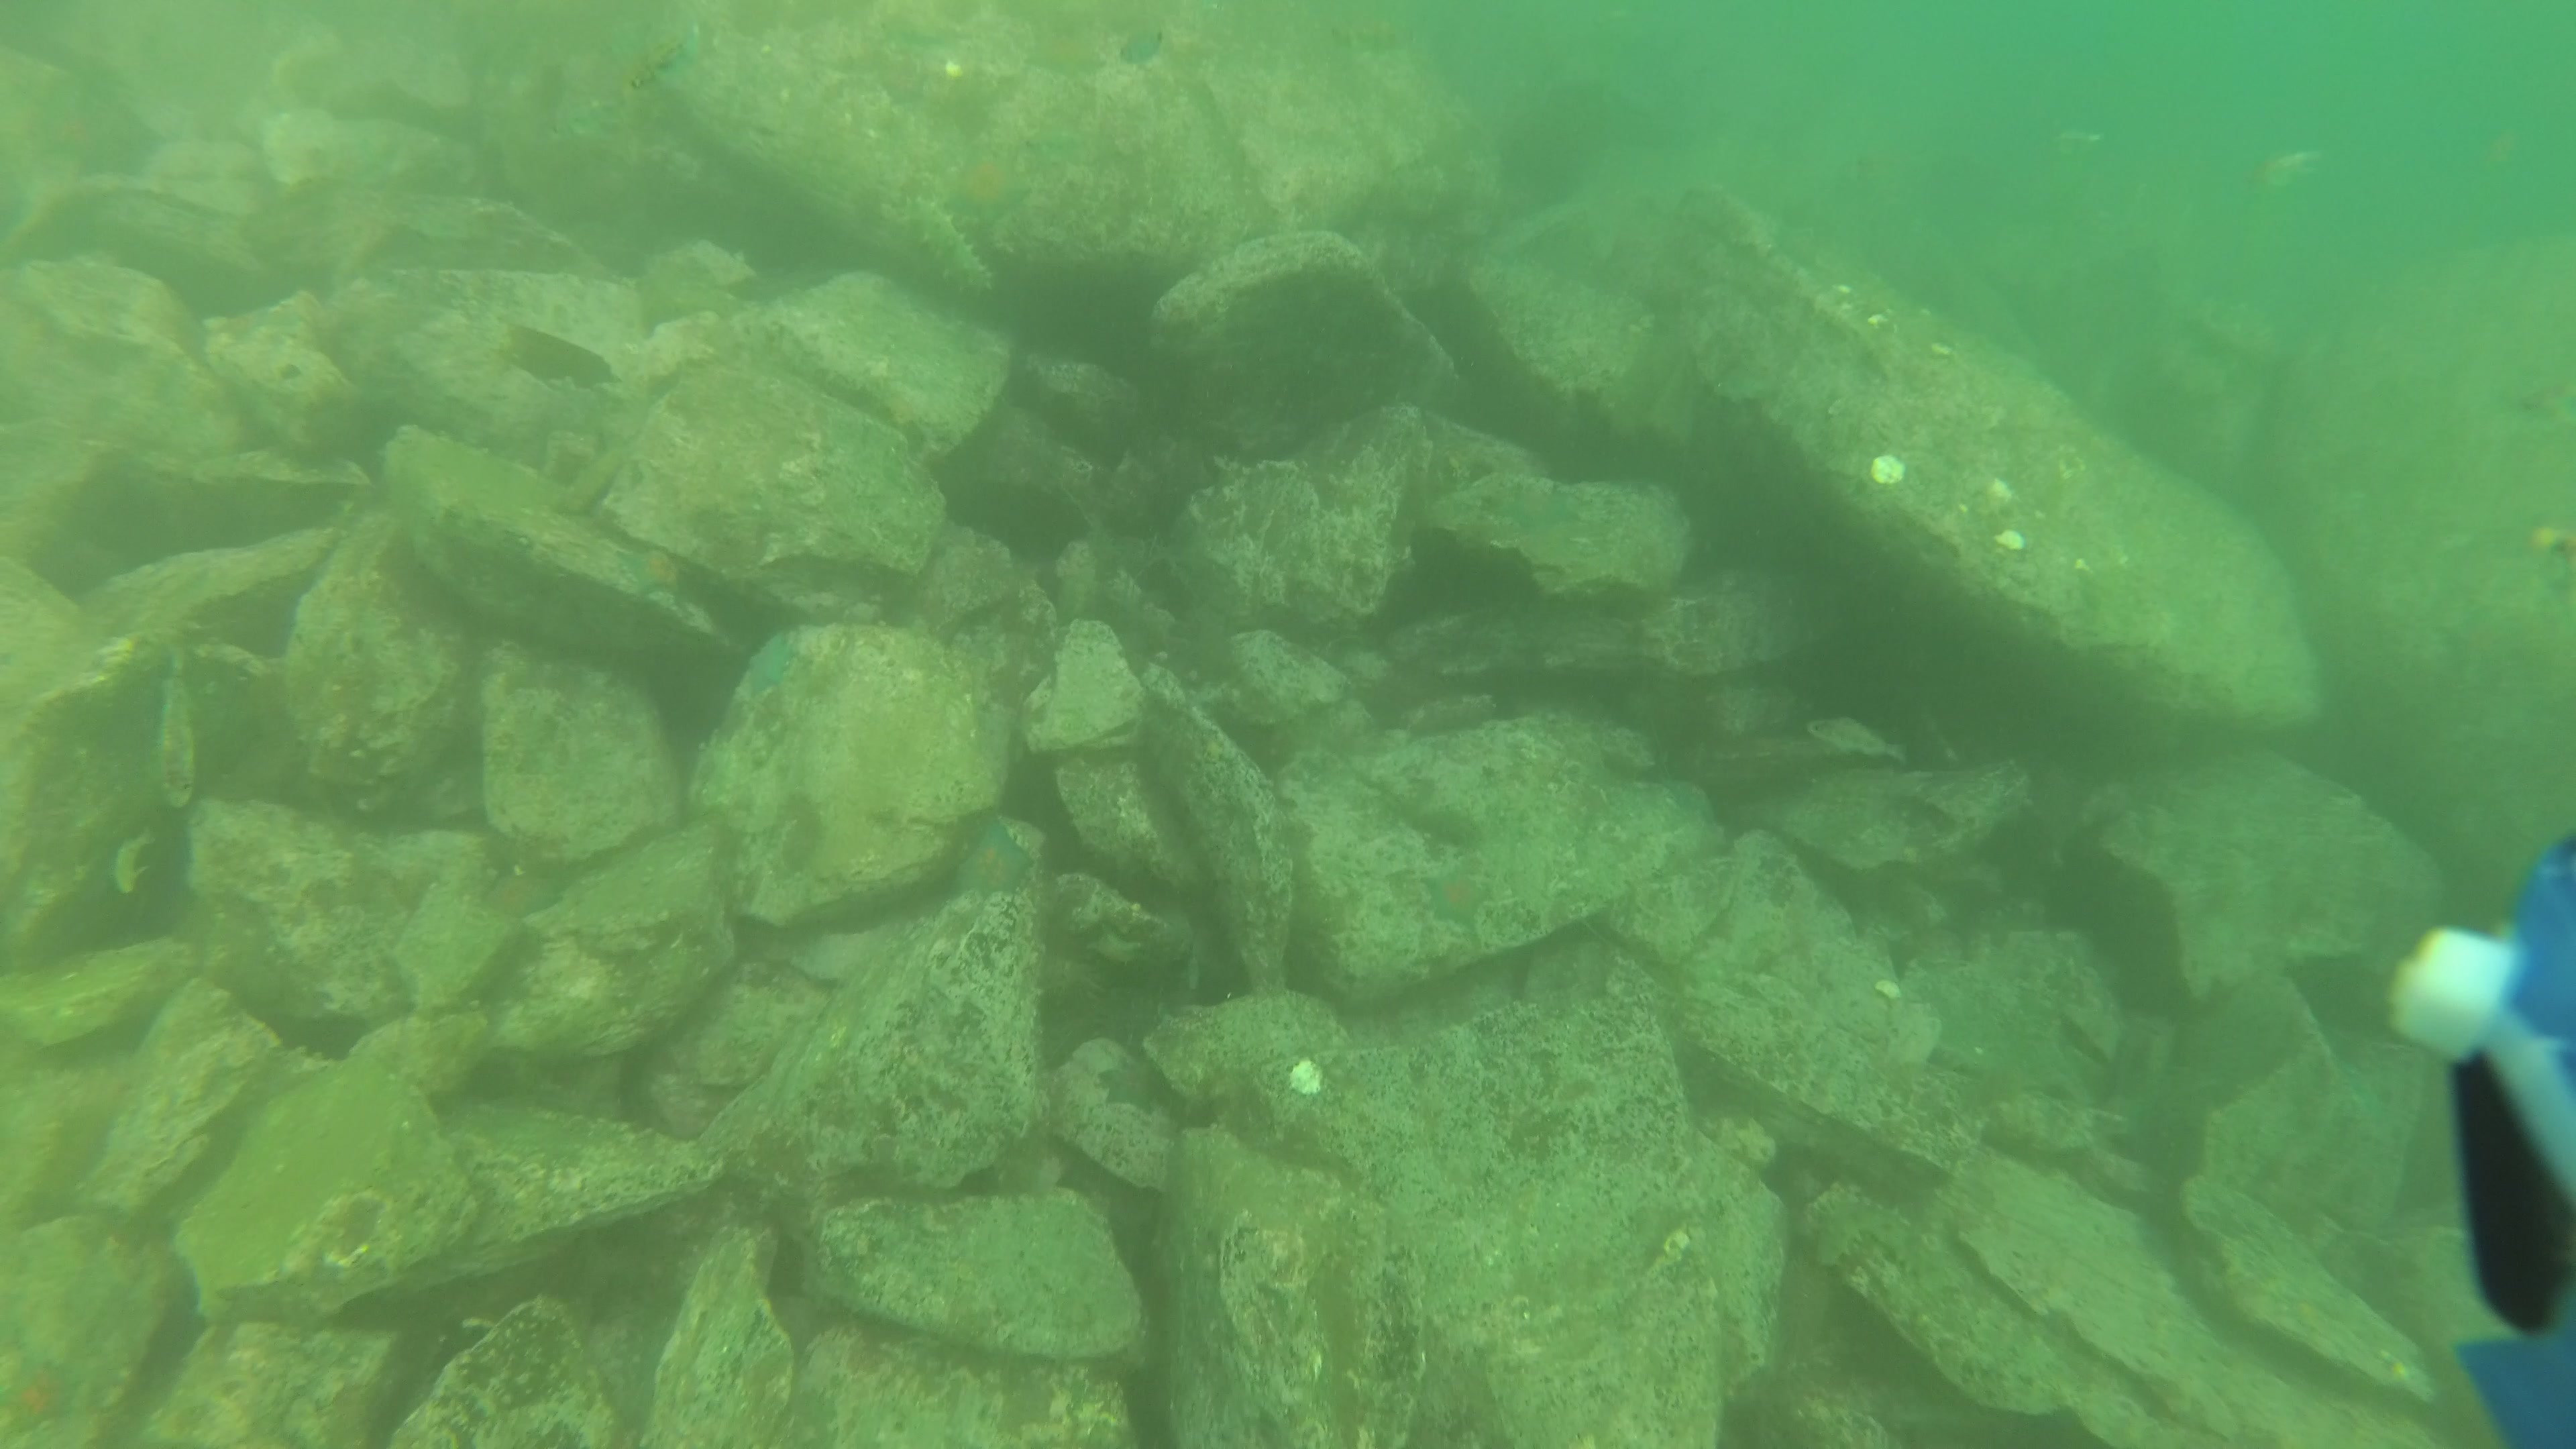holothurian: (899, 193, 1000, 303)
starfish: (4, 1353, 94, 1447), (1414, 855, 1504, 941), (947, 147, 1039, 230), (950, 817, 1037, 902), (605, 540, 690, 603), (1093, 1054, 1169, 1116), (743, 630, 801, 699)
